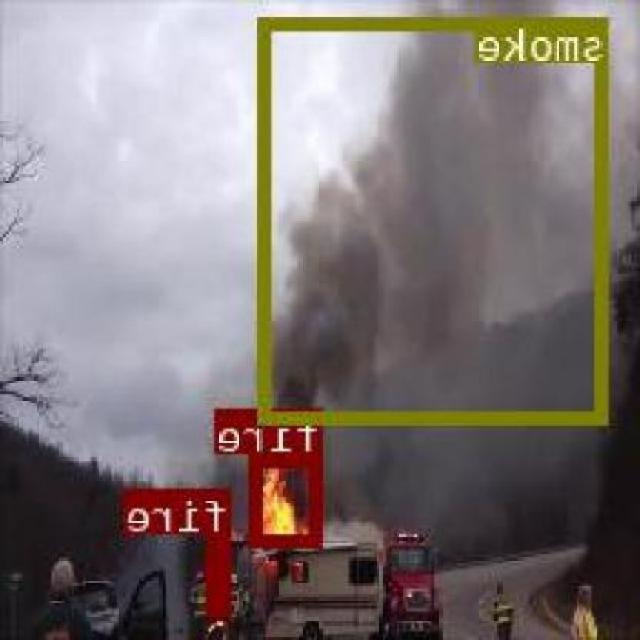Fire: (252, 453, 326, 544), (208, 532, 234, 612)
Smoke: (262, 15, 610, 422)
